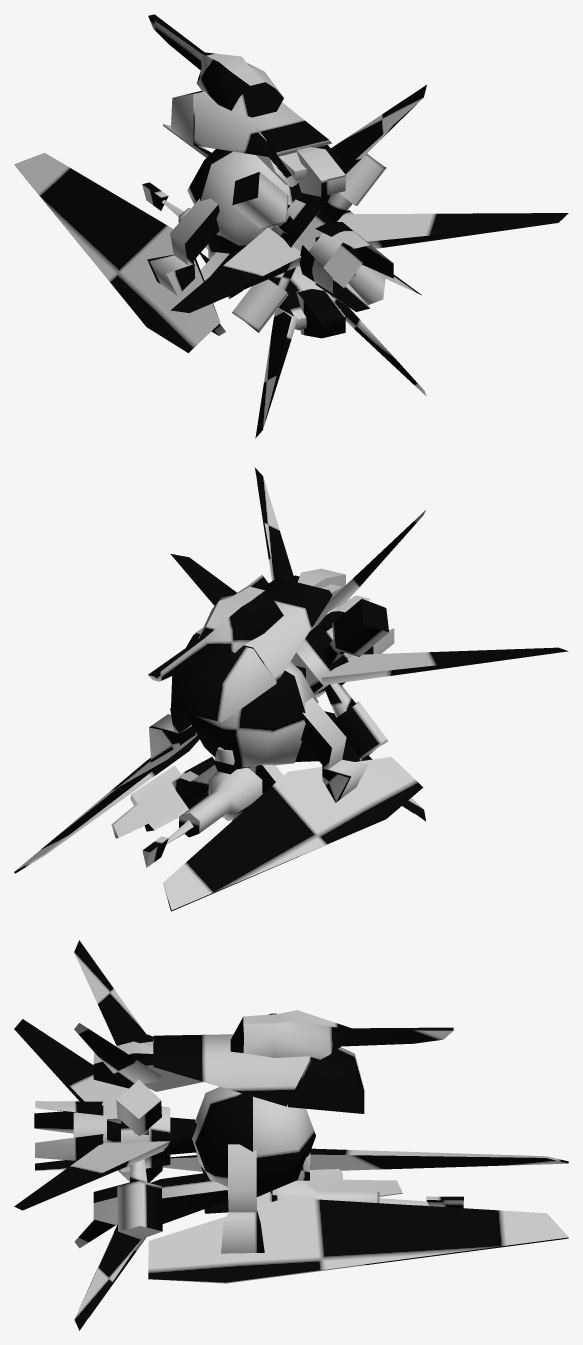
Rendered from pet_7.obj.
3 renders of one model, top to bottom at view 1: azimuth 30°, elevation 25°; view 2: azimuth 150°, elevation 25°; view 3: azimuth 270°, elevation 25°, orthographic.
Parts seen in each view (by area): view 1: main; view 2: main; view 3: main.
Part boxes in pixels (bbox=[...]): main: bbox=[14, 14, 568, 438]; main: bbox=[14, 468, 568, 911]; main: bbox=[14, 940, 568, 1330].
Size of the model in its own units: 65.02 by 48.7 by 79.44.
1 material, 1 textured.
